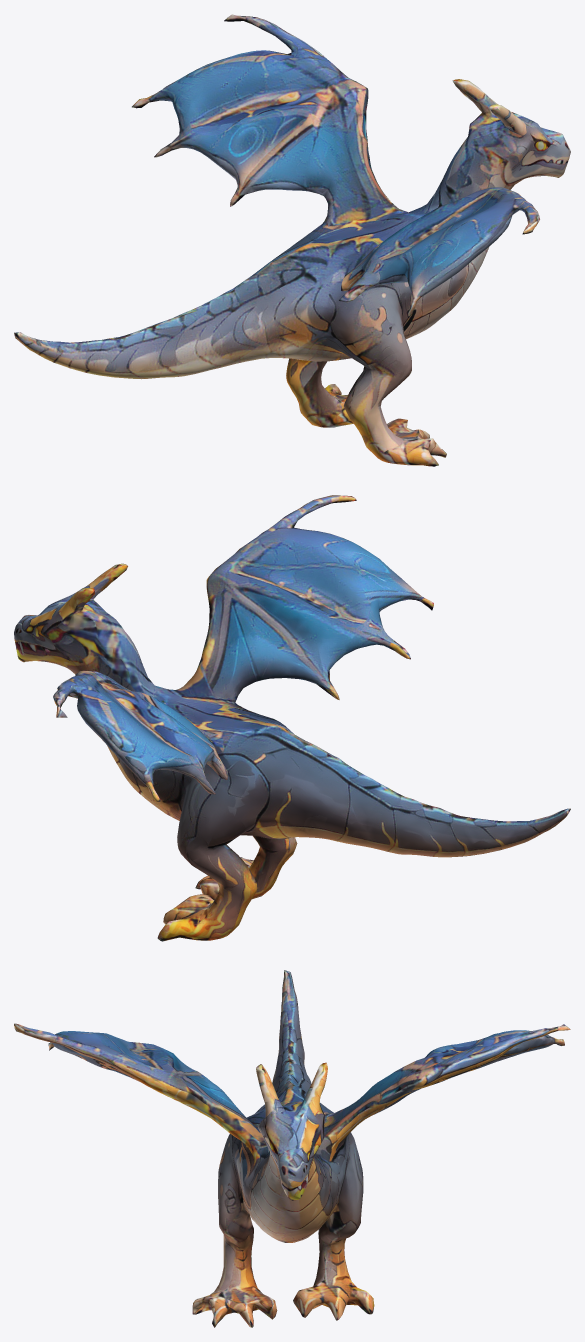
The model's file is 一条西方龙，黑色，凶猛，会喷火，幼态,对称_0322104525_refine.fbx.
3 renders of one model, top to bottom at view 1: azimuth 30°, elevation 25°; view 2: azimuth 150°, elevation 25°; view 3: azimuth 270°, elevation 25°, orthographic. The views are drawn at different scales.
Parts seen in each view (by area): view 1: Mesh_0; view 2: Mesh_0; view 3: Mesh_0.
Part boxes in pixels (x1=…): Mesh_0: x1=14, y1=14, x2=570, y2=466; Mesh_0: x1=14, y1=495, x2=570, y2=941; Mesh_0: x1=14, y1=970, x2=570, y2=1327.
Bounding box in the file's own units: 120 × 65.27 × 111.
Materials: 1 (1 with a texture image).
